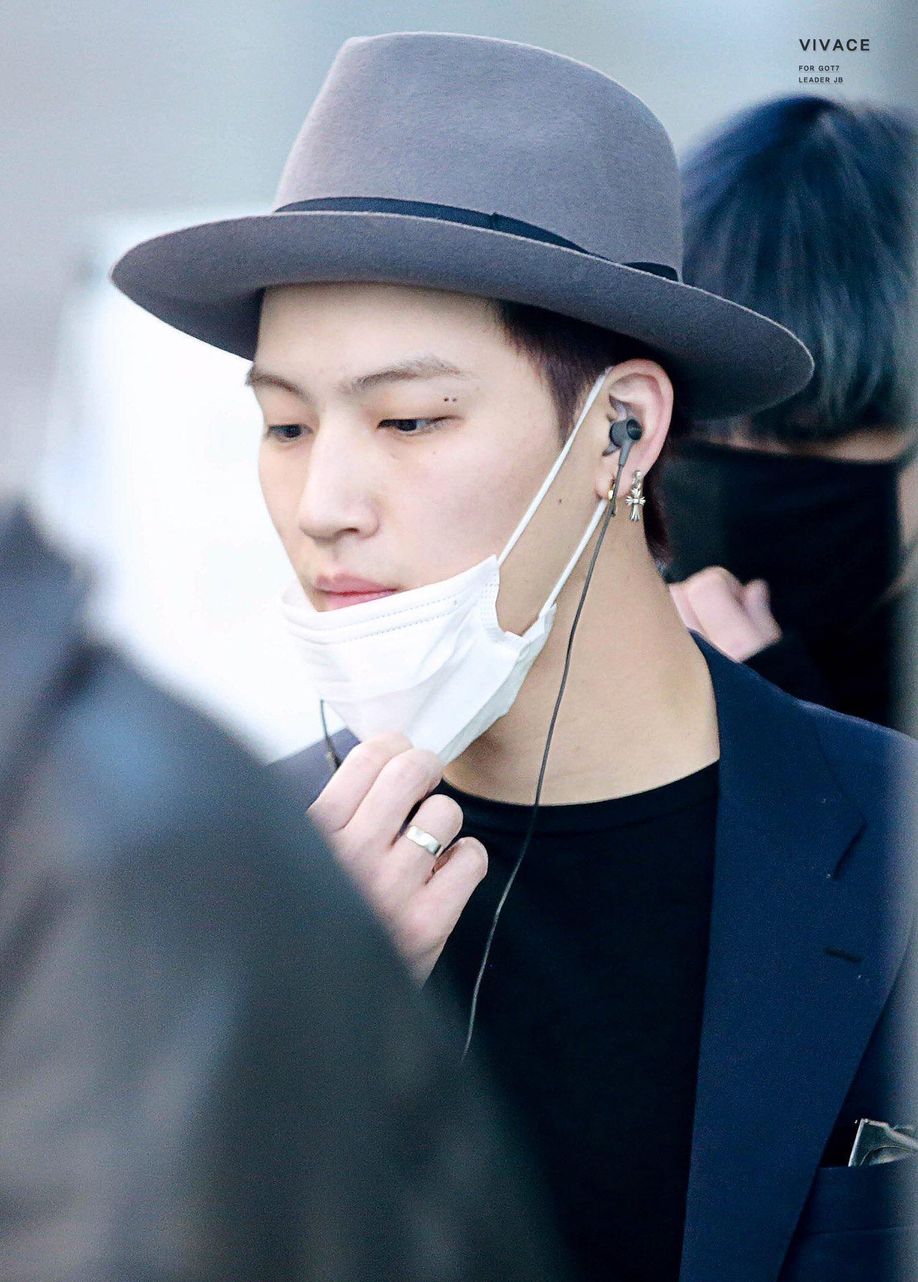WRONG: (221, 330, 621, 729)
